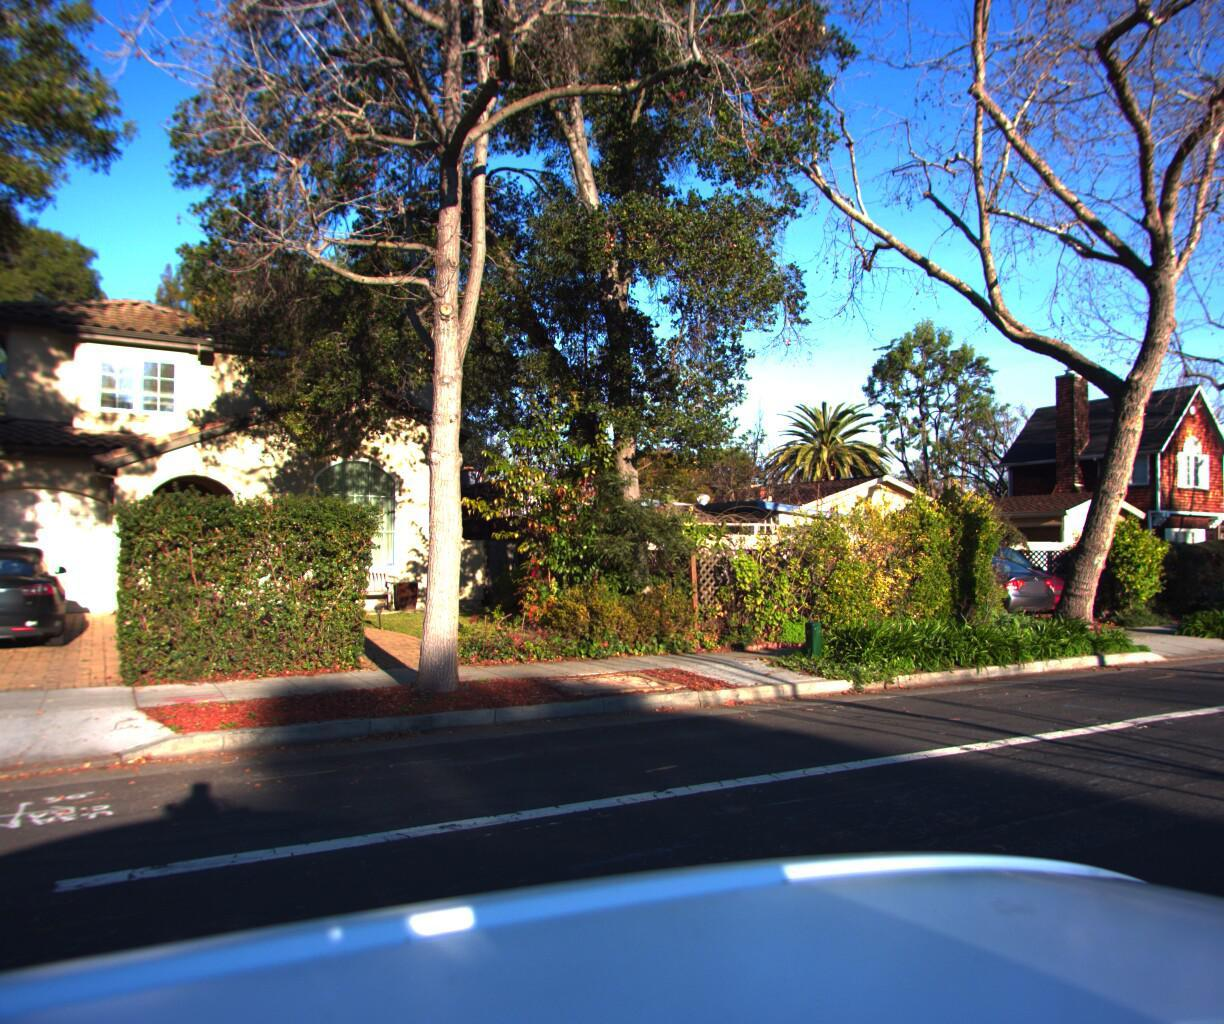car: (892, 530, 1088, 616), (850, 545, 1069, 620)
